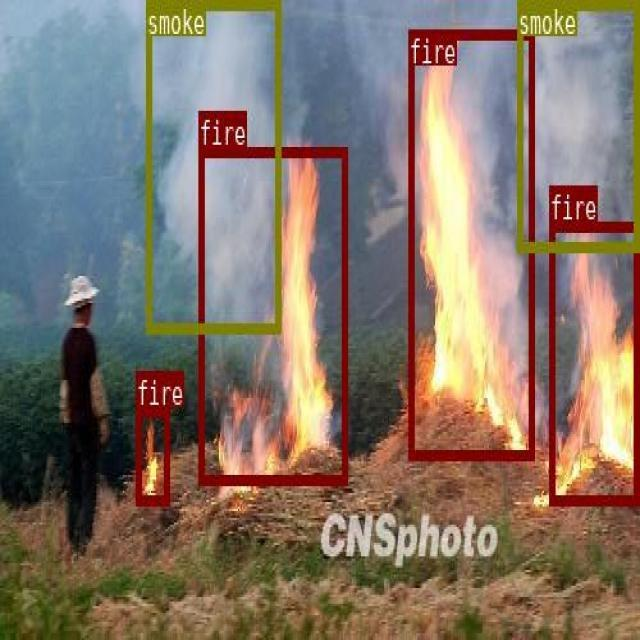fire: (408, 27, 533, 459), (198, 147, 346, 483), (549, 220, 637, 502), (135, 407, 168, 503)
smoke: (145, 0, 279, 332), (516, 0, 637, 249)
